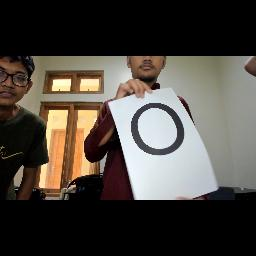o: (118, 96, 198, 154)
